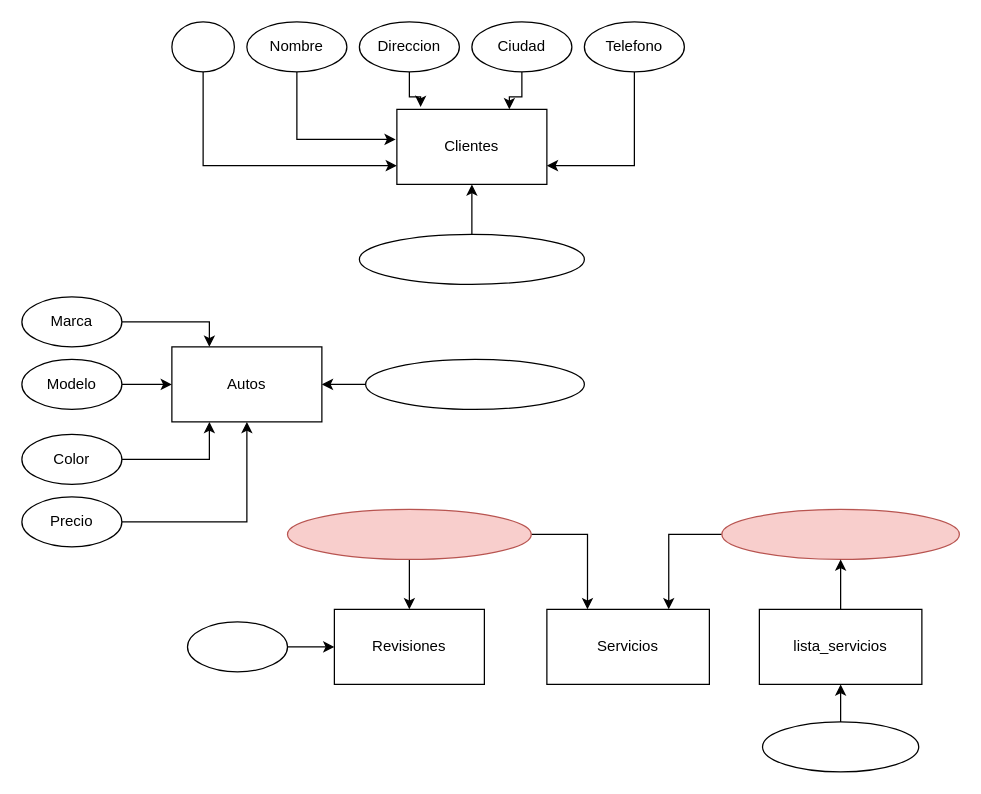
Some shapes in this 981 by 794 pixel diagram are drawn without their labels. Here are the shapes that lost their labels. From the top down, the centre of each, then its label:
At [202,46]: "NIF".
At [471,258]: "codigo_cliente_CLIENTES".
At [474,383]: "matricula_AUTOS".
At [408,533]: "codigo_revision_REVISIONES".
At [840,533]: "codigo_lista_servicios_ LISTA_SERVICIOS".
At [237,646]: "Fecha".
At [840,746]: "nombre_servicio".
